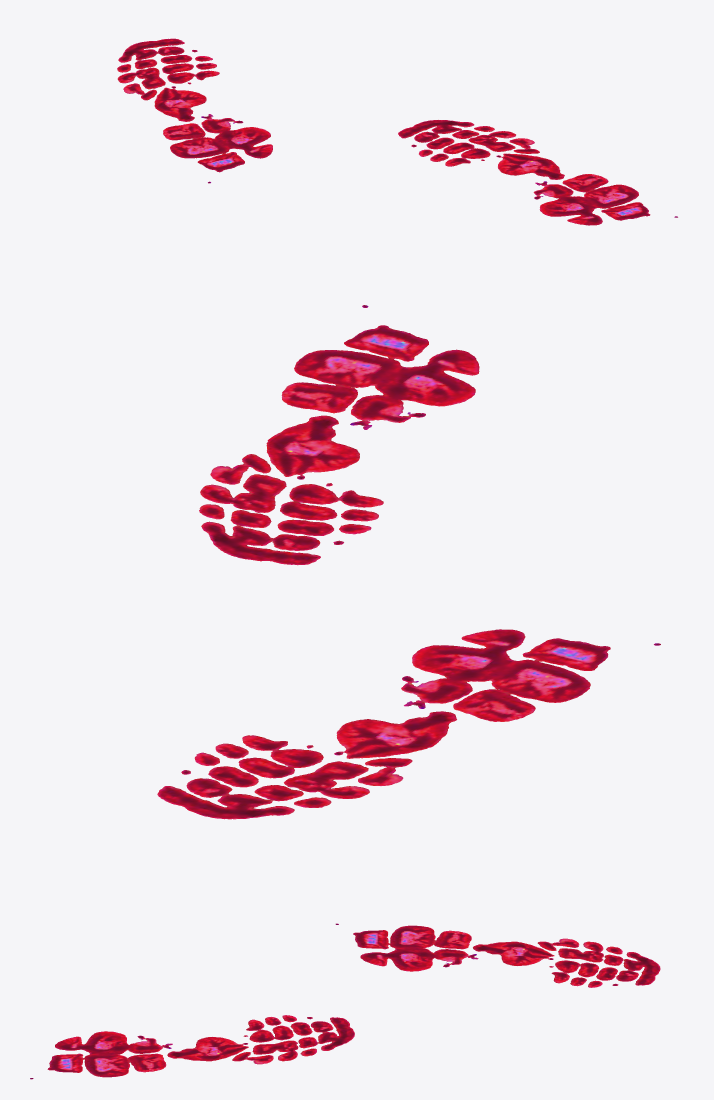
The model's file is BLOODY FOOT PRINT.fbx.
3 views of the same model, one above another, from view 1: azimuth 30°, elevation 25°; view 2: azimuth 150°, elevation 25°; view 3: azimuth 270°, elevation 25° (orthographic). The views are drawn at different scales.
Parts seen in each view (by area): view 1: polySurface2, polySurface1; view 2: polySurface1, polySurface2; view 3: polySurface1, polySurface2.
Boxes of the visible parts, box(x1,y1,x2,y2) form: polySurface2: box(398, 120, 677, 225); polySurface1: box(117, 38, 272, 183); polySurface1: box(157, 629, 660, 819); polySurface2: box(199, 305, 479, 565); polySurface1: box(335, 923, 660, 987); polySurface2: box(30, 1015, 354, 1079).
Bounding box in the file's own units: 16.08 × 0 × 27.61.
Materials: 1 (1 with a texture image).
